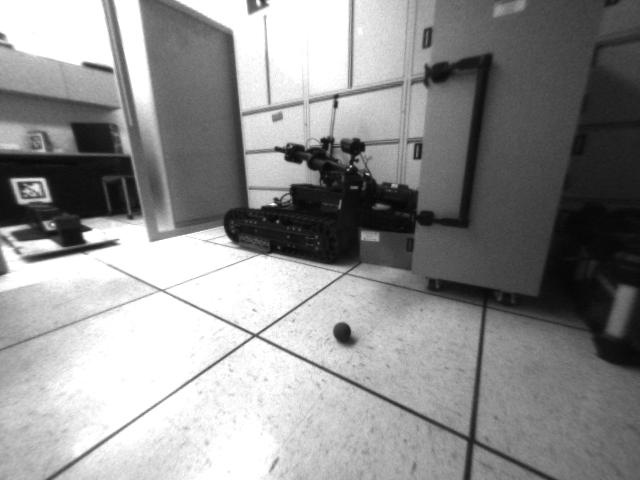dogtoy: (327, 317, 360, 348)
